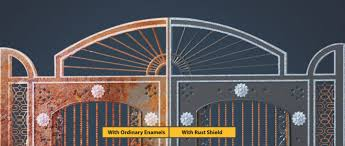rust: (31, 77, 137, 106), (36, 102, 71, 145), (1, 48, 11, 145), (136, 79, 168, 104), (93, 100, 100, 146), (78, 101, 83, 146)
